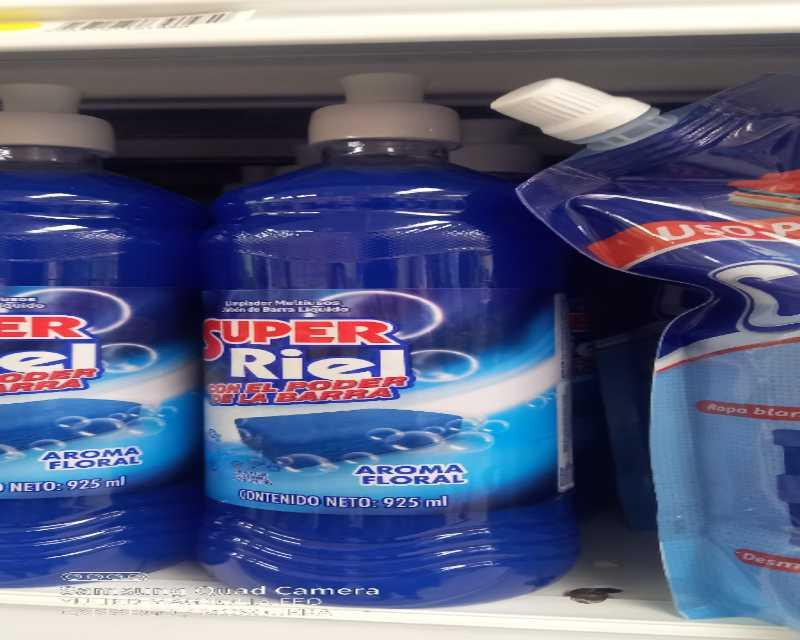SUPER-RIEL-AZUL-BOTELLA-925_50: (201, 70, 592, 619), (1, 64, 205, 594)
